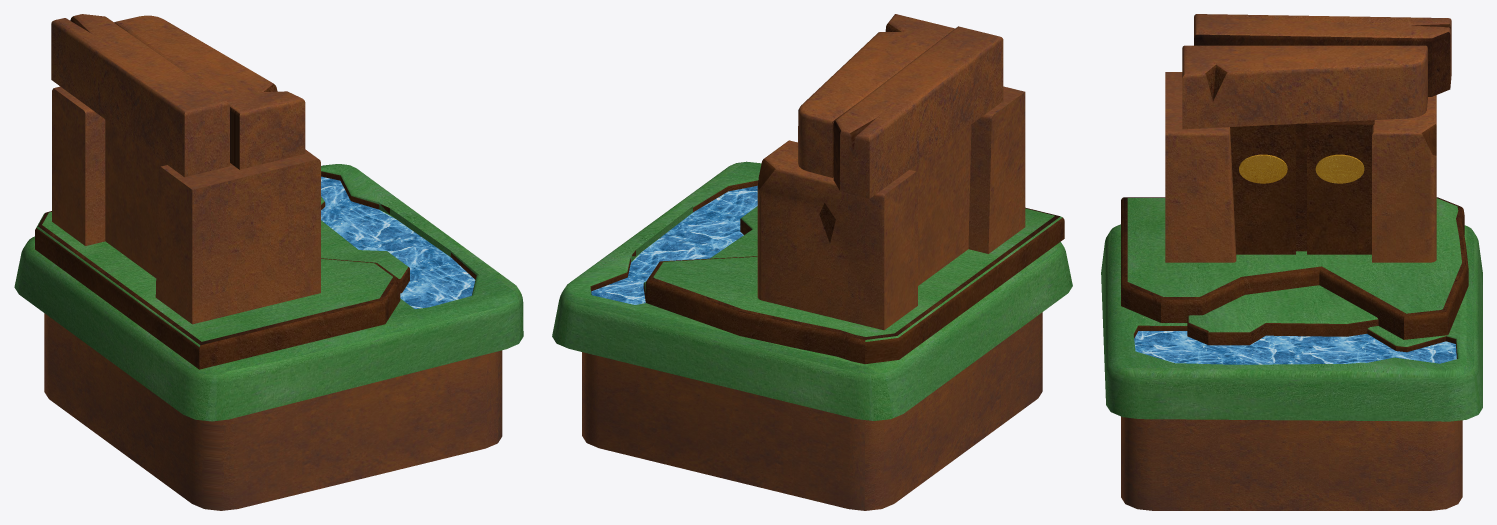
The model's file is Island_1c_Гладкая.fbx.
3 views of the same model, side by side, from view 1: azimuth 30°, elevation 25°; view 2: azimuth 150°, elevation 25°; view 3: azimuth 270°, elevation 25° (orthographic). The views are drawn at different scales.
Visible parts, largest first — view 1: Cube; view 2: Cube; view 3: Cube.
Part boxes in pixels (left/top/right/bottom): Cube: left=14, top=14, right=523, bottom=510; Cube: left=552, top=14, right=1072, bottom=510; Cube: left=1101, top=14, right=1482, bottom=510.
Size of the model in its own units: 225 by 233 by 224.
